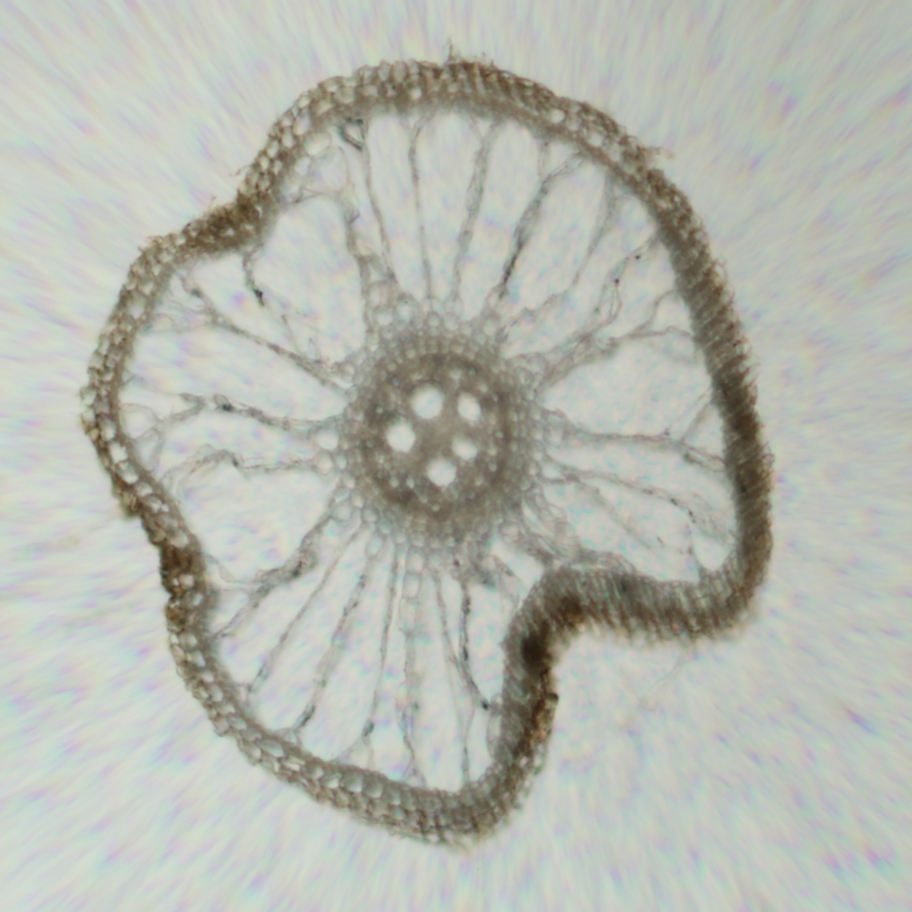lm: (407, 381, 445, 418), (383, 415, 415, 452), (424, 452, 456, 487), (456, 388, 482, 422), (450, 432, 478, 460)
